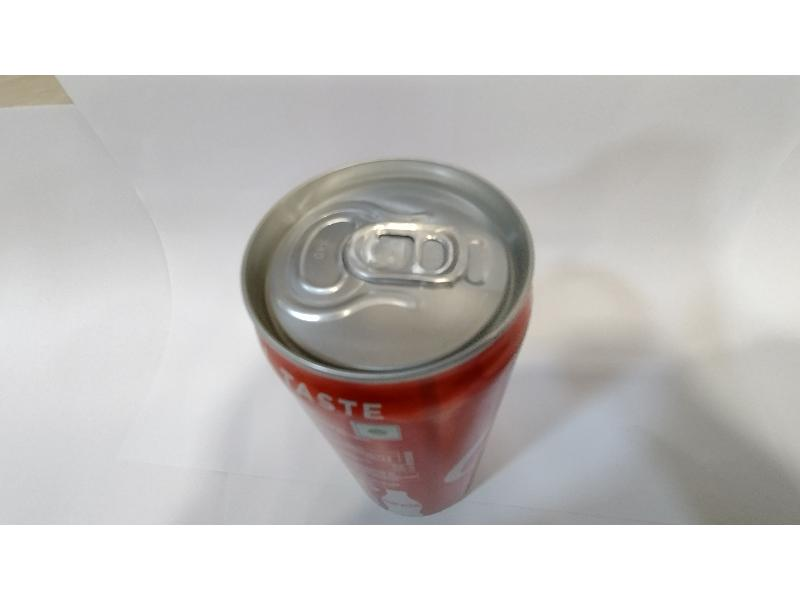can: (237, 154, 535, 511)
